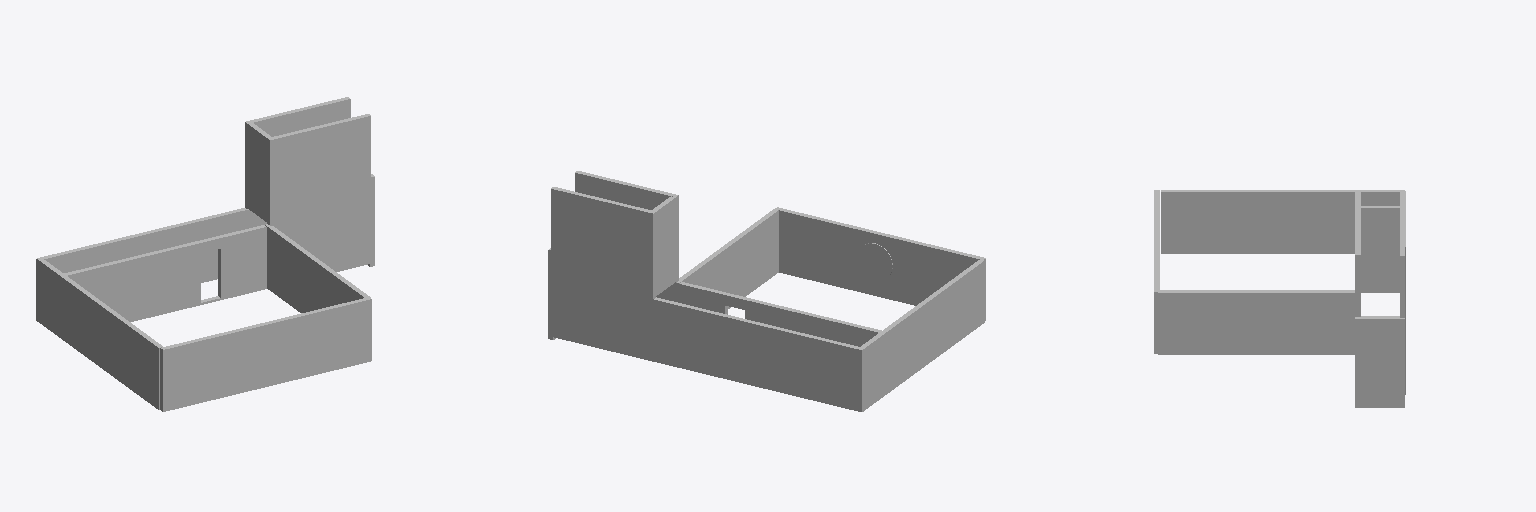
The model's file is pared.obj.
3 views of the same model, side by side, from view 1: azimuth 30°, elevation 25°; view 2: azimuth 150°, elevation 25°; view 3: azimuth 270°, elevation 25° (orthographic).
Visible parts, largest first — view 1: pasted__polySurface253 pasted__polySurface250 group156, polySurface250 polySurface259, polySurface255 polySurface250, polySurface250 polySurface253, polySurface250 polySurface256, polySurface250 polySurface254, polySurface250 polySurface260, polySurface250 polySurface257; view 2: polySurface250 polySurface257, polySurface250 polySurface256, pasted__polySurface253 pasted__polySurface250 group156, polySurface250 polySurface253, polySurface250 polySurface254, polySurface255 polySurface250, polySurface250 polySurface259, polySurface250 polySurface260, polySurface250 polySurface252; view 3: polySurface250 polySurface253, polySurface250 polySurface254, polySurface250 polySurface258, polySurface250 polySurface260, pasted__polySurface253 pasted__polySurface250 group156, polySurface250 polySurface257, polySurface250 polySurface259.
Part boxes in pixels (bbox=[...]): pasted__polySurface253 pasted__polySurface250 group156: bbox=[160, 297, 371, 411]; polySurface250 polySurface259: bbox=[267, 114, 370, 271]; polySurface255 polySurface250: bbox=[60, 225, 266, 321]; polySurface250 polySurface253: bbox=[36, 258, 162, 409]; polySurface250 polySurface256: bbox=[40, 208, 248, 282]; polySurface250 polySurface254: bbox=[265, 224, 370, 312]; polySurface250 polySurface260: bbox=[245, 122, 270, 224]; polySurface250 polySurface257: bbox=[245, 97, 350, 227]; polySurface250 polySurface257: bbox=[551, 187, 655, 361]; polySurface250 polySurface256: bbox=[653, 297, 860, 411]; pasted__polySurface253 pasted__polySurface250 group156: bbox=[776, 207, 985, 320]; polySurface250 polySurface253: bbox=[859, 260, 984, 411]; polySurface250 polySurface254: bbox=[676, 208, 778, 308]; polySurface255 polySurface250: bbox=[679, 282, 885, 346]; polySurface250 polySurface259: bbox=[575, 171, 678, 301]; polySurface250 polySurface260: bbox=[652, 196, 677, 297]; polySurface250 polySurface252: bbox=[858, 243, 892, 280]; polySurface250 polySurface253: bbox=[1161, 190, 1404, 253]; polySurface250 polySurface254: bbox=[1158, 290, 1354, 354]; polySurface250 polySurface258: bbox=[1355, 316, 1404, 407]; polySurface250 polySurface260: bbox=[1361, 206, 1399, 292]; pasted__polySurface253 pasted__polySurface250 group156: bbox=[1154, 190, 1159, 353]; polySurface250 polySurface257: bbox=[1400, 206, 1405, 394]; polySurface250 polySurface259: bbox=[1355, 206, 1360, 316].
Bounding box in the file's own units: 139 × 63.89 × 96.18.